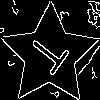T: (24, 30, 77, 82)
